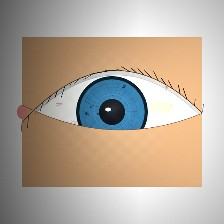pinguecula_lesion: (138, 88, 185, 126)
